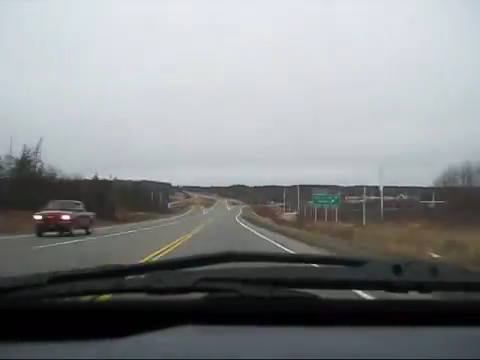car: (32, 199, 96, 237)
